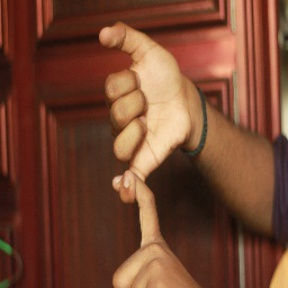S: (88, 18, 199, 284)
